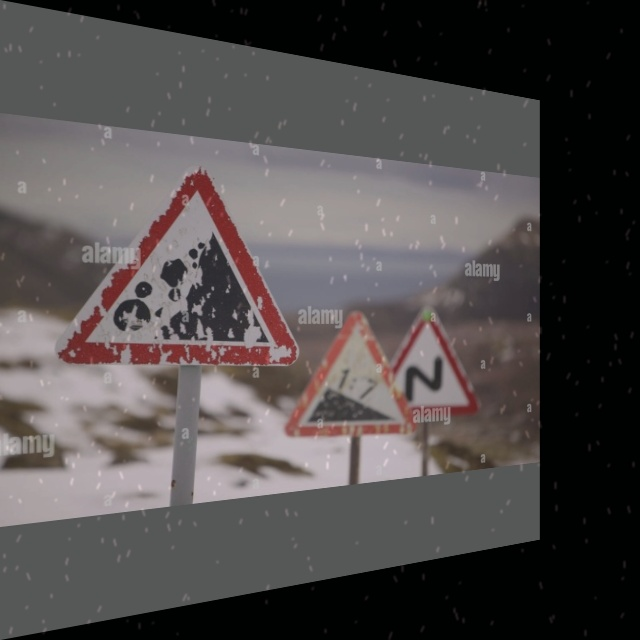Falling_Rocks: (74, 158, 288, 369)
